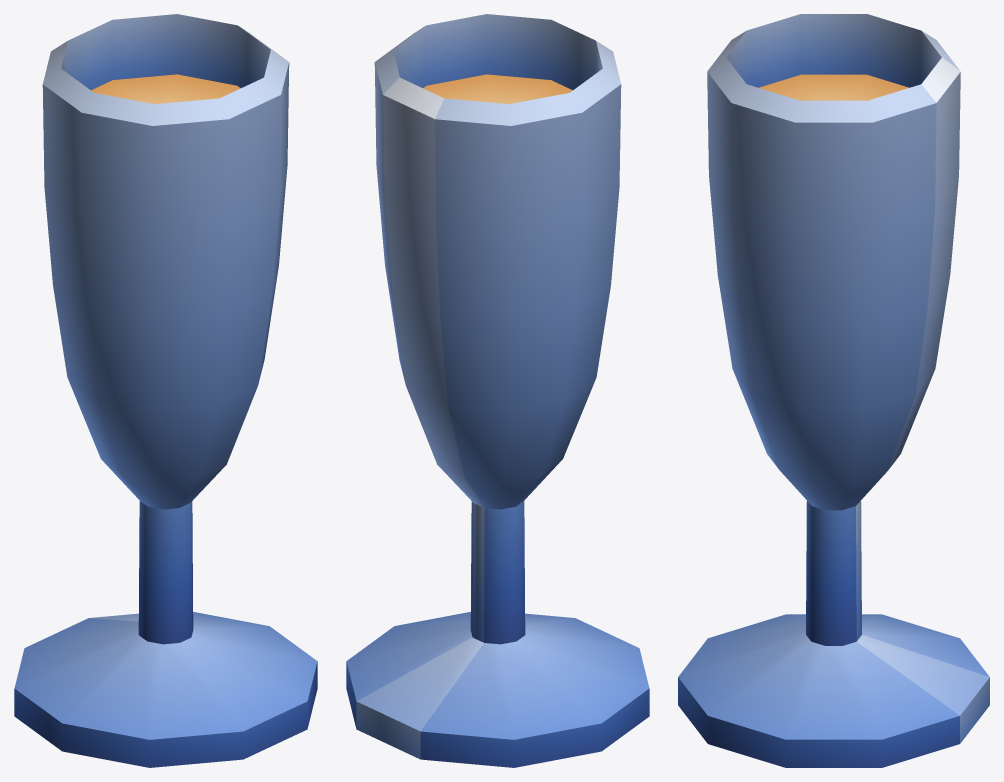
The model's file is m_Champagne01.fbx.
The picture shows the model from 3 angles, left to right: view 1: azimuth 30°, elevation 25°; view 2: azimuth 150°, elevation 25°; view 3: azimuth 270°, elevation 25°; orthographic projection.
Visible parts, largest first — view 1: m_Champagne01; view 2: m_Champagne01; view 3: m_Champagne01.
Boxes of the visible parts, bbox=[...] form: m_Champagne01: bbox=[14, 14, 317, 767]; m_Champagne01: bbox=[346, 14, 649, 767]; m_Champagne01: bbox=[678, 14, 989, 767].
Bounding box in the file's own units: 9.51 × 22.93 × 10.
